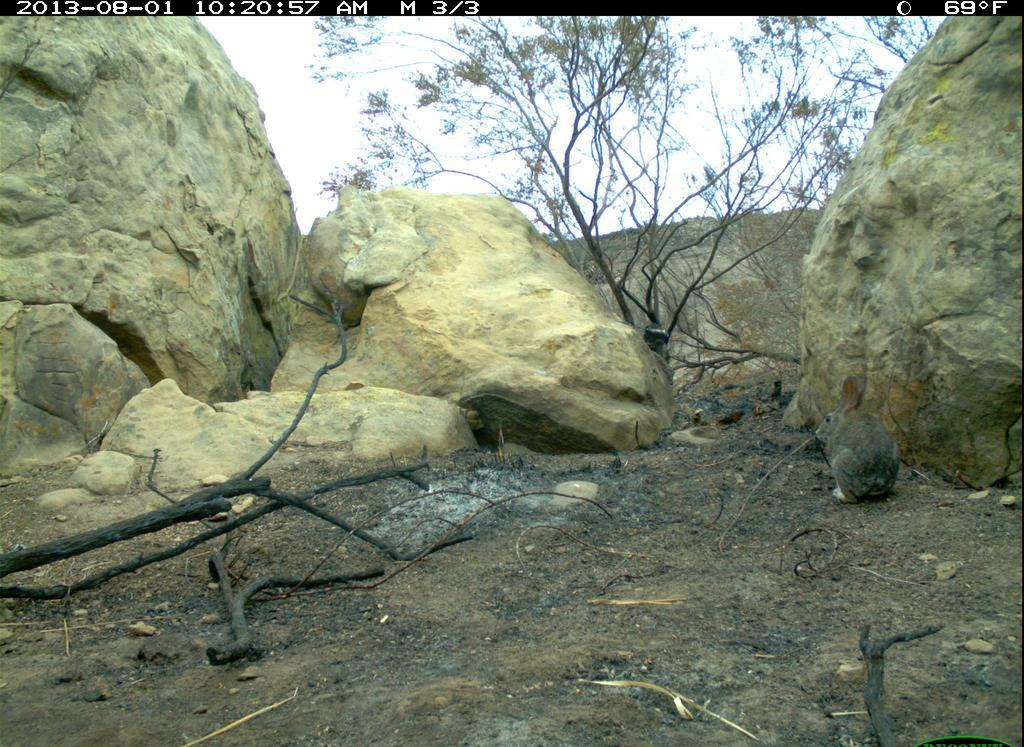rabbit: (811, 373, 907, 511)
